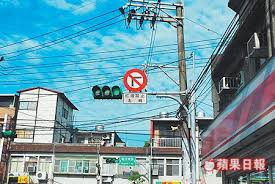No_right_turn: (121, 68, 147, 91)
